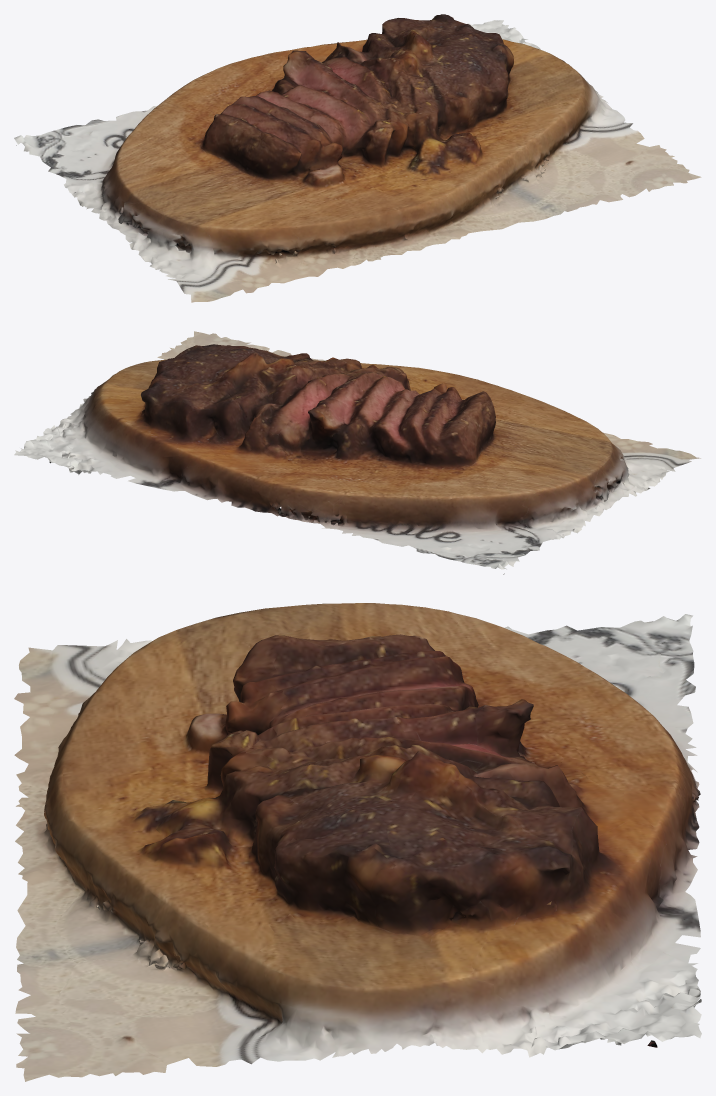
Rendered from rib_eye.obj.
The picture shows the model from 3 angles, top to bottom: view 1: azimuth 30°, elevation 25°; view 2: azimuth 150°, elevation 25°; view 3: azimuth 270°, elevation 25°; orthographic projection. The views are drawn at different scales.
Visible parts, largest first — view 1: vita; view 2: vita; view 3: vita.
Part boxes in pixels (x1,y1,x2,y2): vita: (14,14,701,302); vita: (14,331,700,574); vita: (14,603,701,1081).
Bounding box in the file's own units: 0.305 × 0.0608 × 0.2025.
